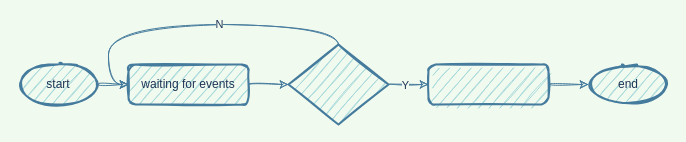
The diagram is 686 pixels wide and 142 high, and some of its shapes have lost their labels. The centre of each missing label's shape, as x and y in pixels:
"auto reply handler" belongs at (488,84).
"type of event is post?" belongs at (338,84).
